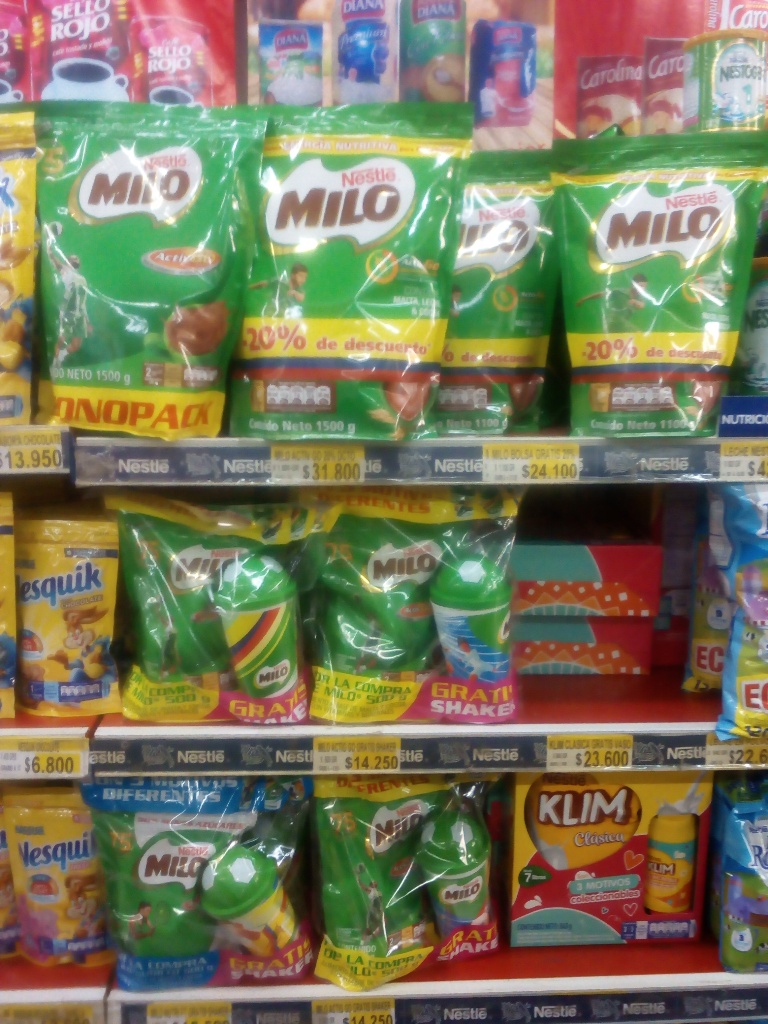COL0170203DYP50000: (106, 494, 236, 714)
COL0170205DYP50000: (94, 800, 213, 983)
COL0170305DYP20000: (3, 785, 102, 999)
COL0170306DYP20000: (5, 499, 120, 728)
